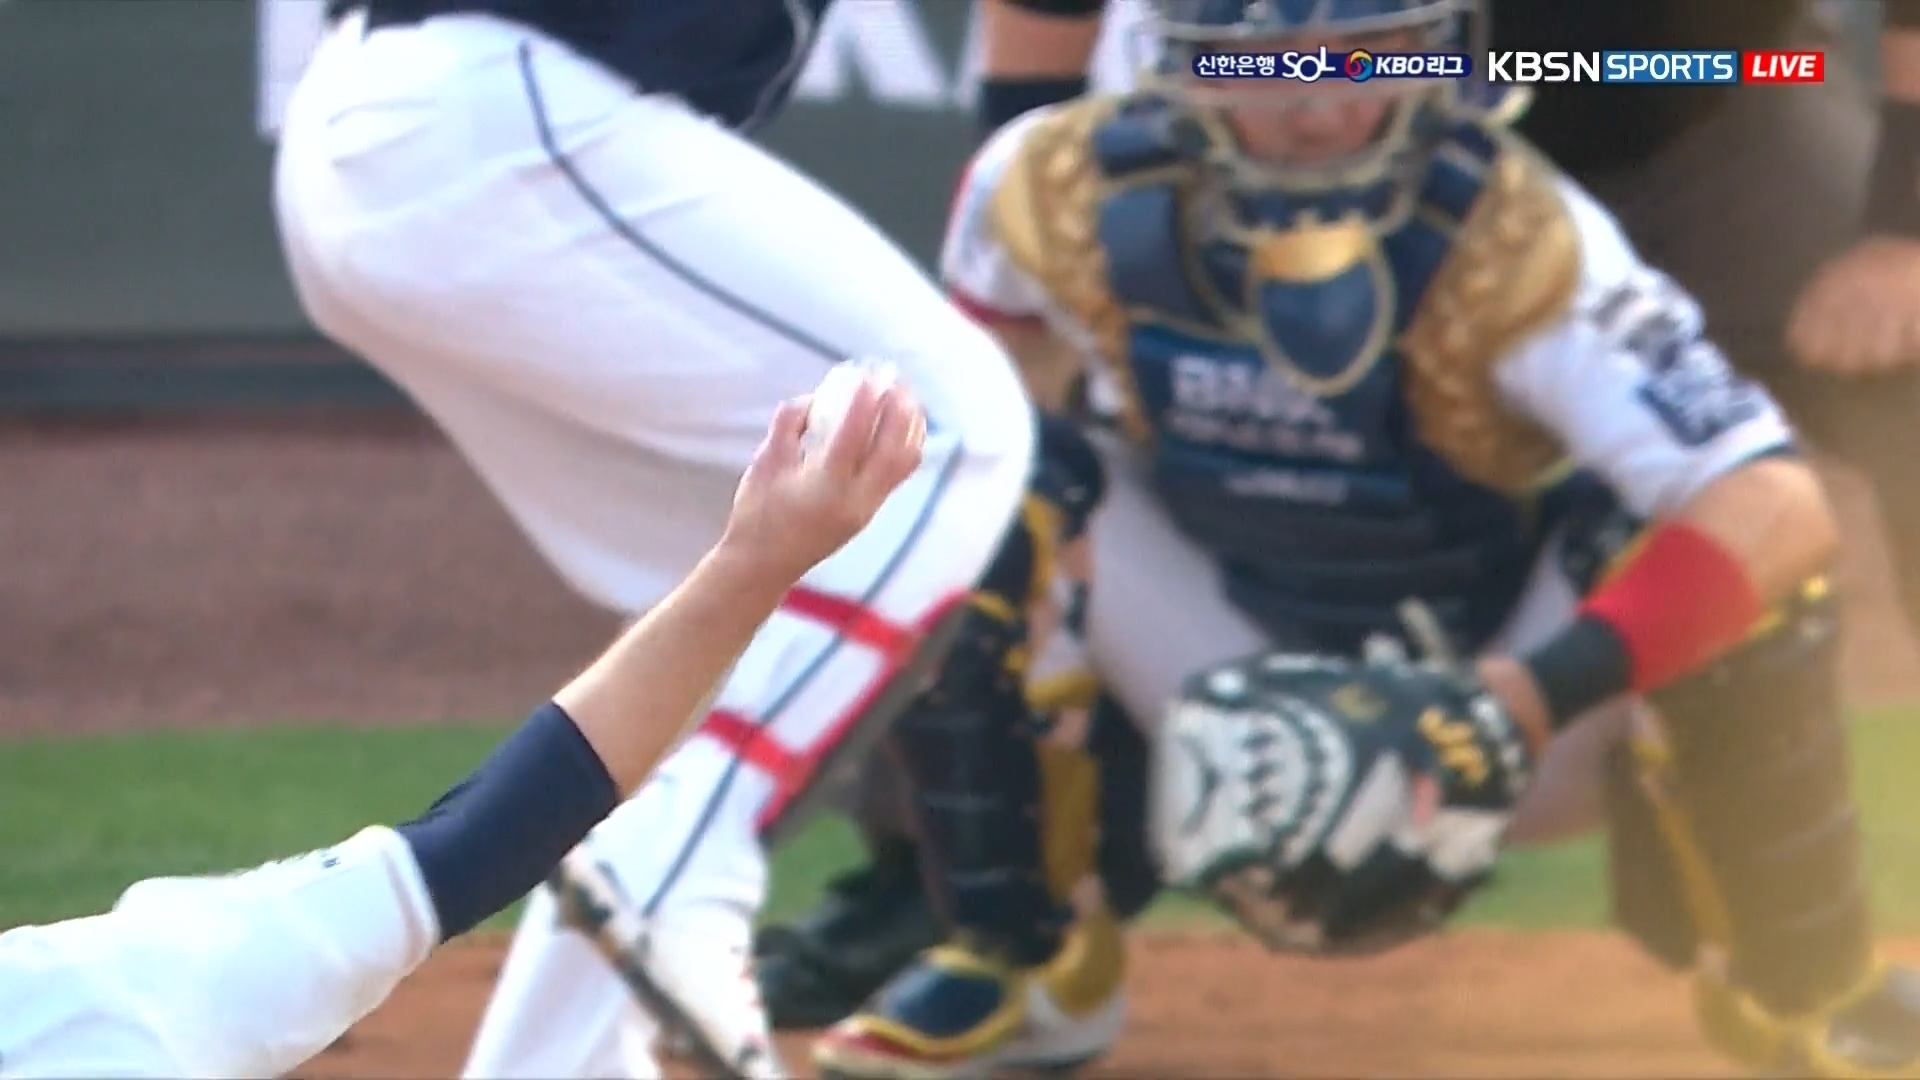zoomin_hand: (443, 318, 989, 926)
